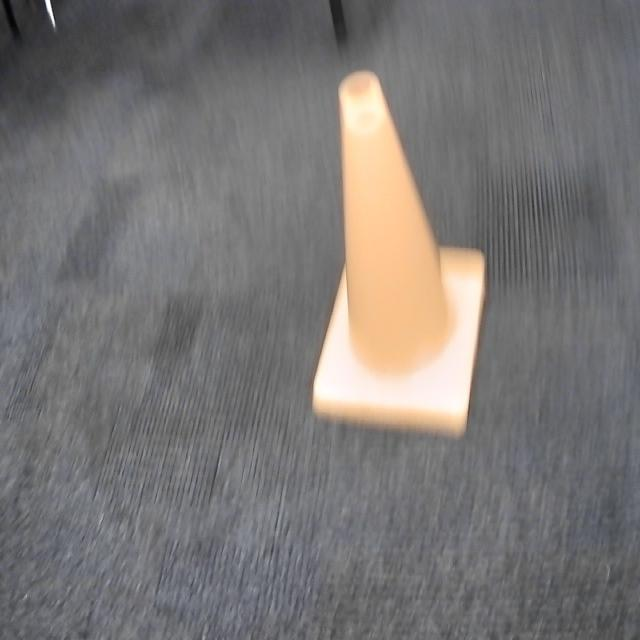cone: (308, 70, 489, 446)
